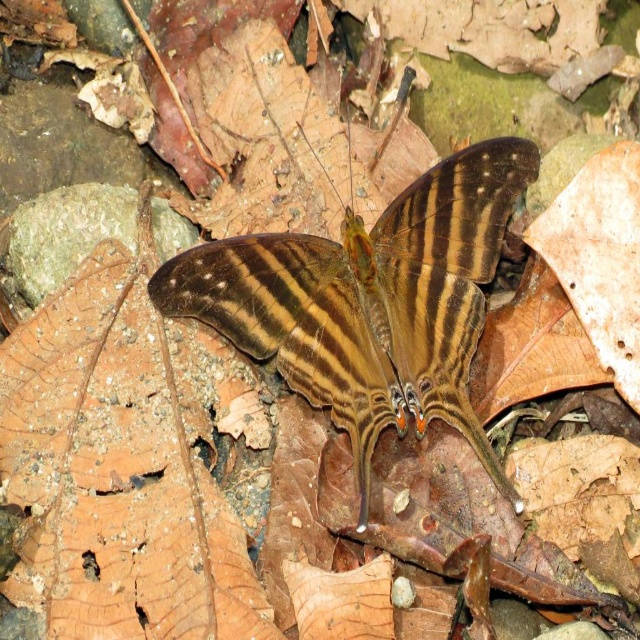Butterfly: (148, 97, 542, 531)
